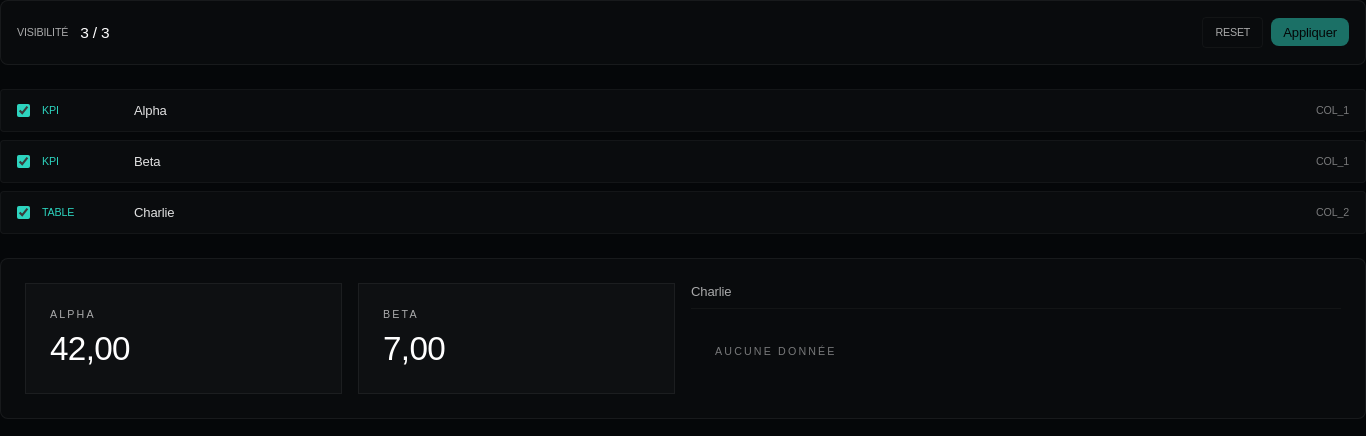
ReportSpecEditor › toggle la visibilité quand on clique sur la checkbox
This screenshot has width=1366, height=436.
Click the checkbox with test id "editor-toggle-kpi_a".
click(24, 110)  # box [17,104,30,117]
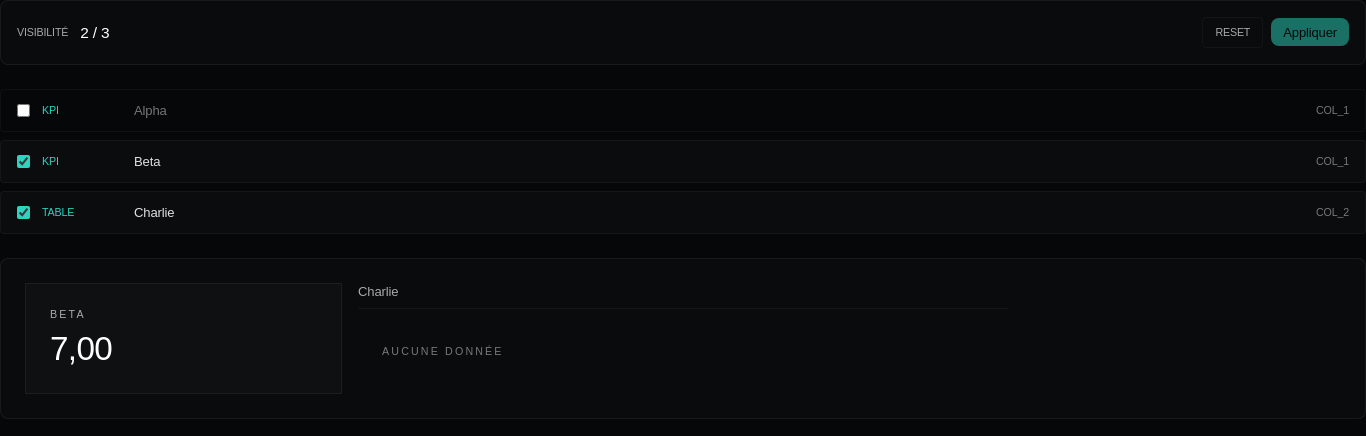
Check: the checkbox with test id "editor-toggle-kpi_a" is not checked, box [17,104,30,117]
Check: the text "2 / 3" is shown, box [80,22,110,43]
